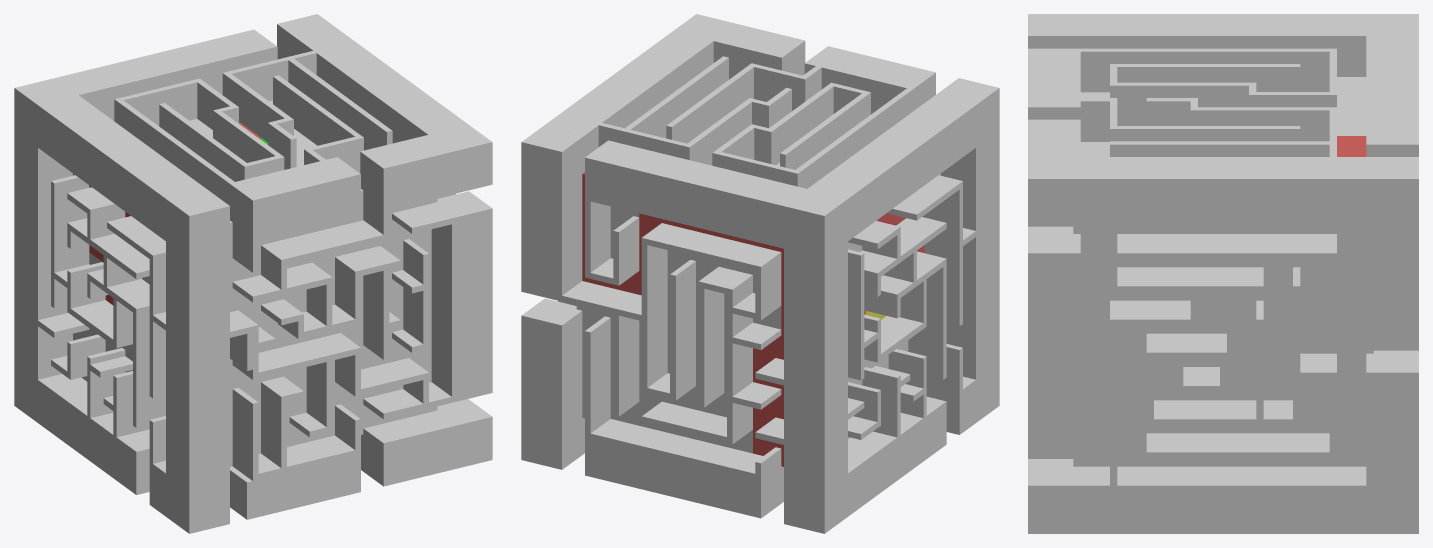
File: MazeCube.fbx
The picture shows the model from 3 angles, left to right: view 1: azimuth 30°, elevation 25°; view 2: azimuth 150°, elevation 25°; view 3: azimuth 270°, elevation 25°; orthographic projection. The views are drawn at different scales.
Visible parts, largest first — view 1: puzzle.answer; view 2: puzzle.answer; view 3: puzzle.answer.
Boxes of the visible parts, box(x1,y1,x2,y2) form: puzzle.answer: box(14, 14, 492, 533); puzzle.answer: box(521, 14, 999, 533); puzzle.answer: box(1028, 14, 1418, 533).
Bounding box in the file's own units: 511 × 513 × 511.
